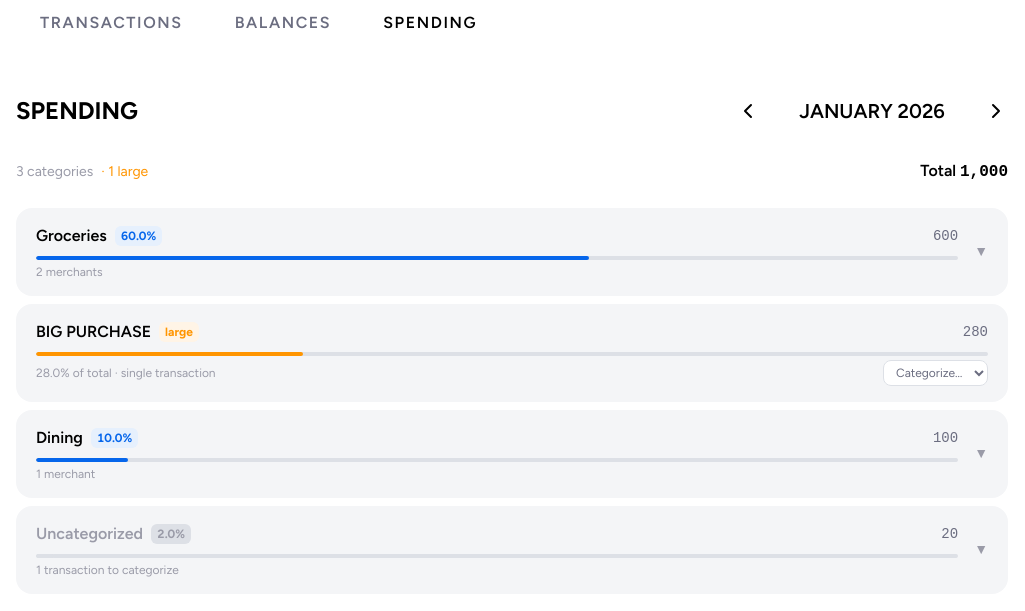
Spending page › moves between months
The image size is (1025, 611).
Expected: the text "3 categories" is shown, top-left (16, 162), bottom-right (93, 180)
Click the button named "Previous month". click: point(748, 111)
box: top-left (736, 99), bottom-right (760, 123)
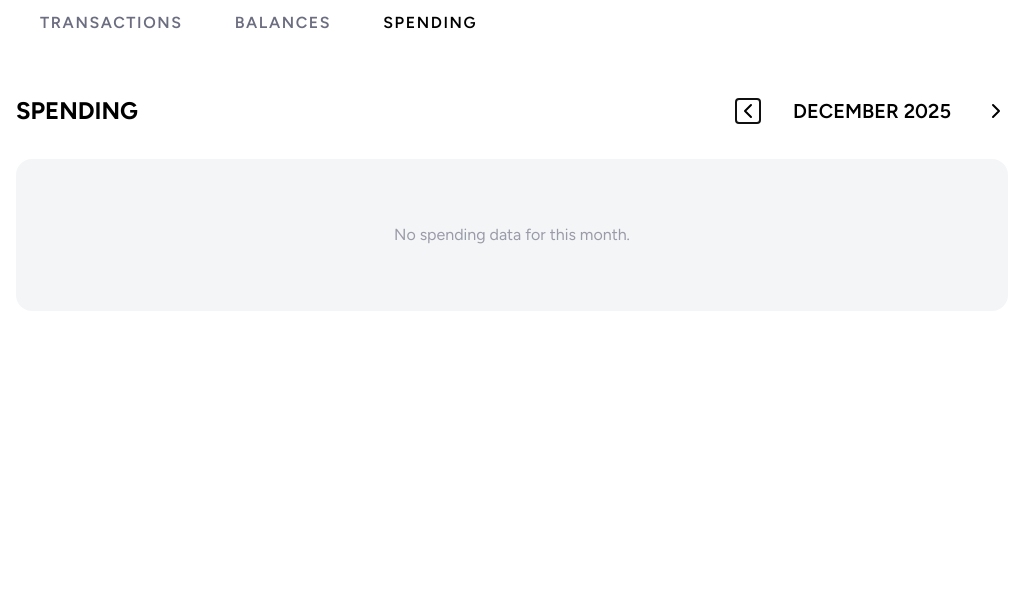
Result: the text "No spending data for this month." is shown at top-left (16, 159), bottom-right (1008, 311)
